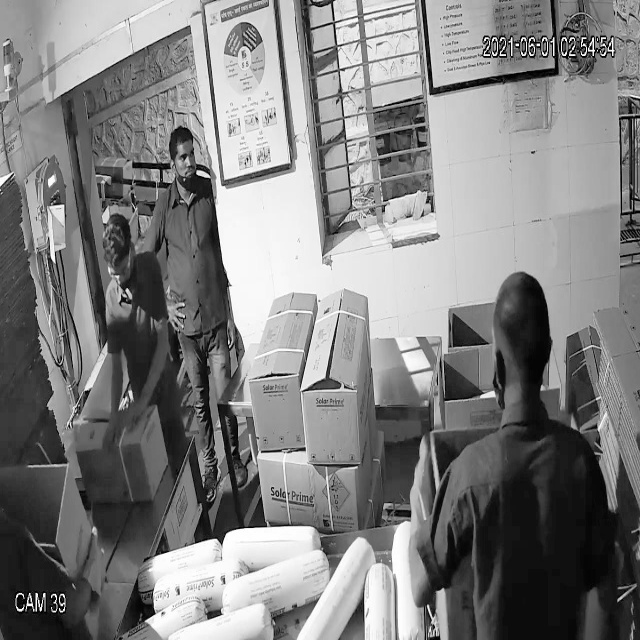Gafas: (100, 245, 139, 290)
Sin_gafas: (161, 142, 204, 174)
